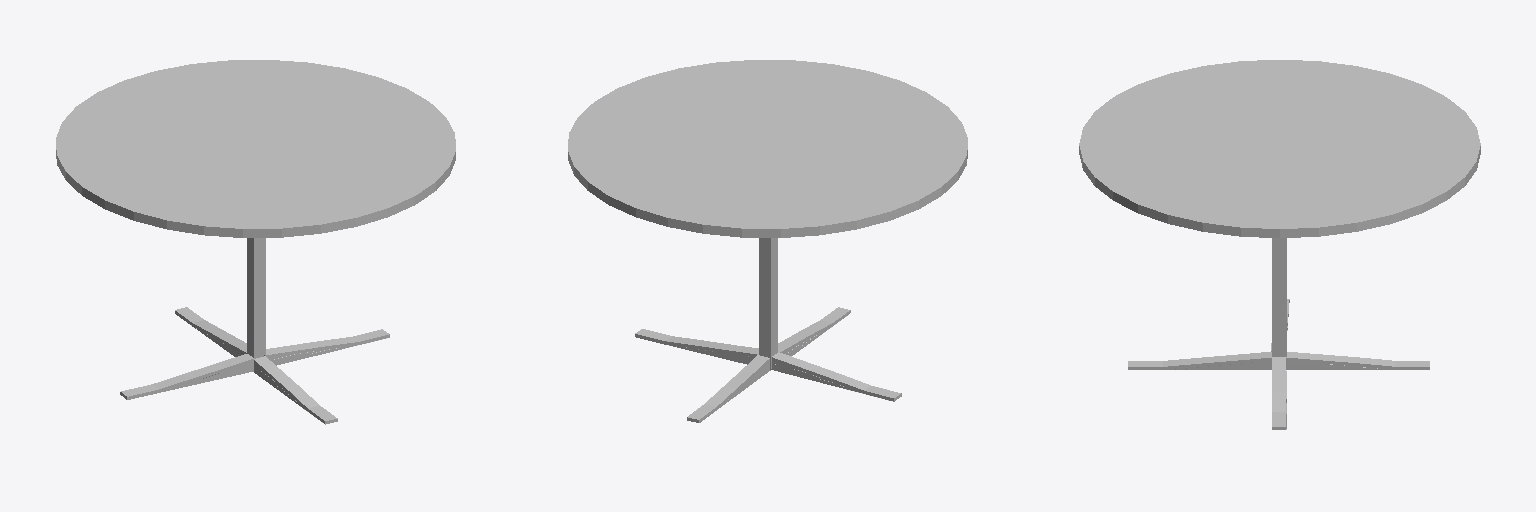
Rendered from CircleTable.obj.
3 renders of one model, left to right at view 1: azimuth 30°, elevation 25°; view 2: azimuth 150°, elevation 25°; view 3: azimuth 270°, elevation 25°, orthographic.
Parts seen in each view (by area): view 1: Cylinder, Cube.004_Cube.005, Cube.001_Cube.002, Cube.002_Cube.003, Cube_Cube.001, Cube.003_Cube.004; view 2: Cylinder, Cube.004_Cube.005, Cube.001_Cube.002, Cube.002_Cube.003, Cube.003_Cube.004, Cube_Cube.001; view 3: Cylinder, Cube.003_Cube.004, Cube_Cube.001, Cube.004_Cube.005, Cube.002_Cube.003.
Boxes of the visible parts, <box> form: Cylinder: <box>56,60,455,237</box>; Cube.004_Cube.005: <box>247,238,265,358</box>; Cube.001_Cube.002: <box>120,354,253,399</box>; Cube.002_Cube.003: <box>264,329,389,365</box>; Cube_Cube.001: <box>254,356,337,424</box>; Cube.003_Cube.004: <box>175,307,246,356</box>; Cylinder: <box>568,60,967,237</box>; Cube.004_Cube.005: <box>759,238,777,369</box>; Cube.001_Cube.002: <box>771,352,901,401</box>; Cube.002_Cube.003: <box>635,329,758,364</box>; Cube.003_Cube.004: <box>687,355,770,422</box>; Cube_Cube.001: <box>778,307,850,355</box>; Cylinder: <box>1079,60,1480,237</box>; Cube.003_Cube.004: <box>1286,352,1429,369</box>; Cube_Cube.001: <box>1128,352,1271,369</box>; Cube.004_Cube.005: <box>1272,238,1286,356</box>; Cube.002_Cube.003: <box>1272,357,1286,429</box>.
Size of the model in its own units: 1.69 by 1.04 by 1.69.